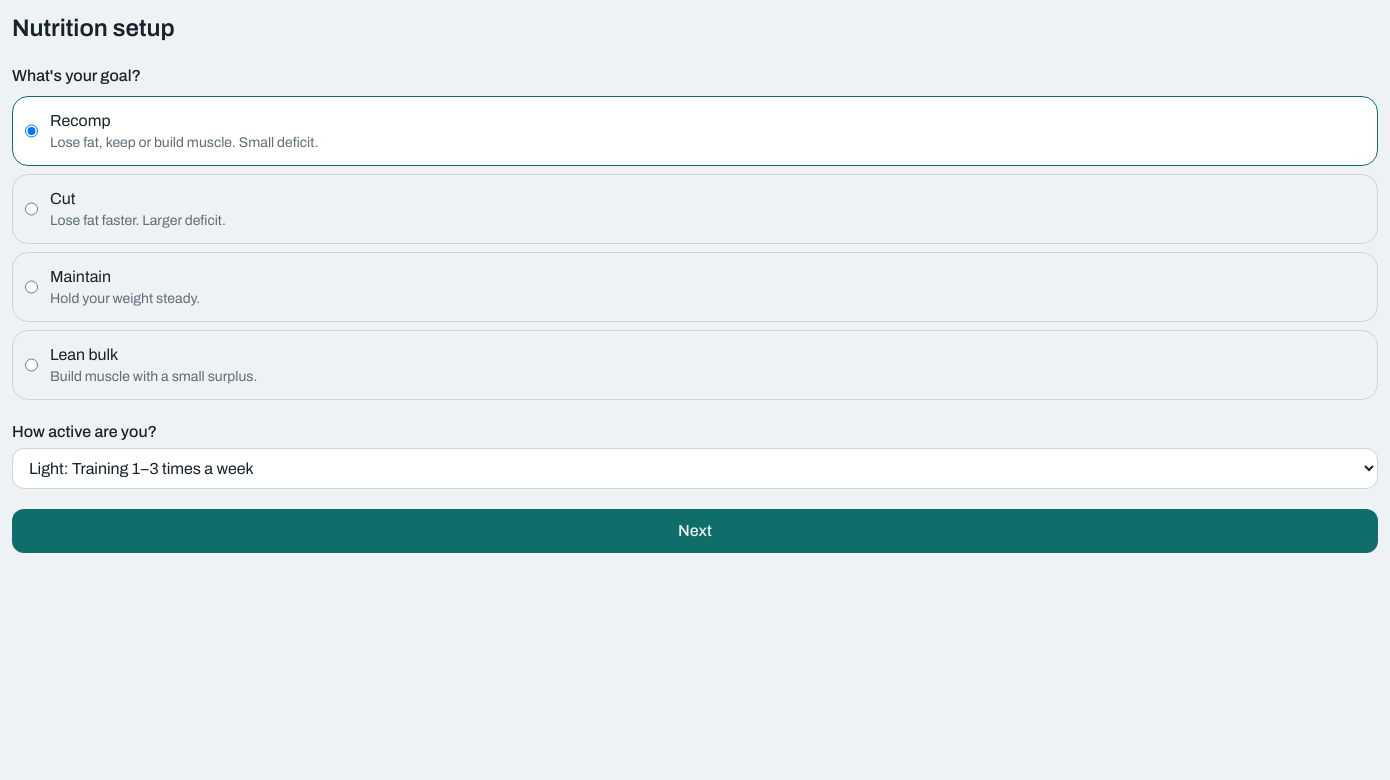
Scenario: NutritionSetup › asks for a weigh-in when the estimate needs one
Click the button "Next" at (695, 531), box [12,509,1378,553]
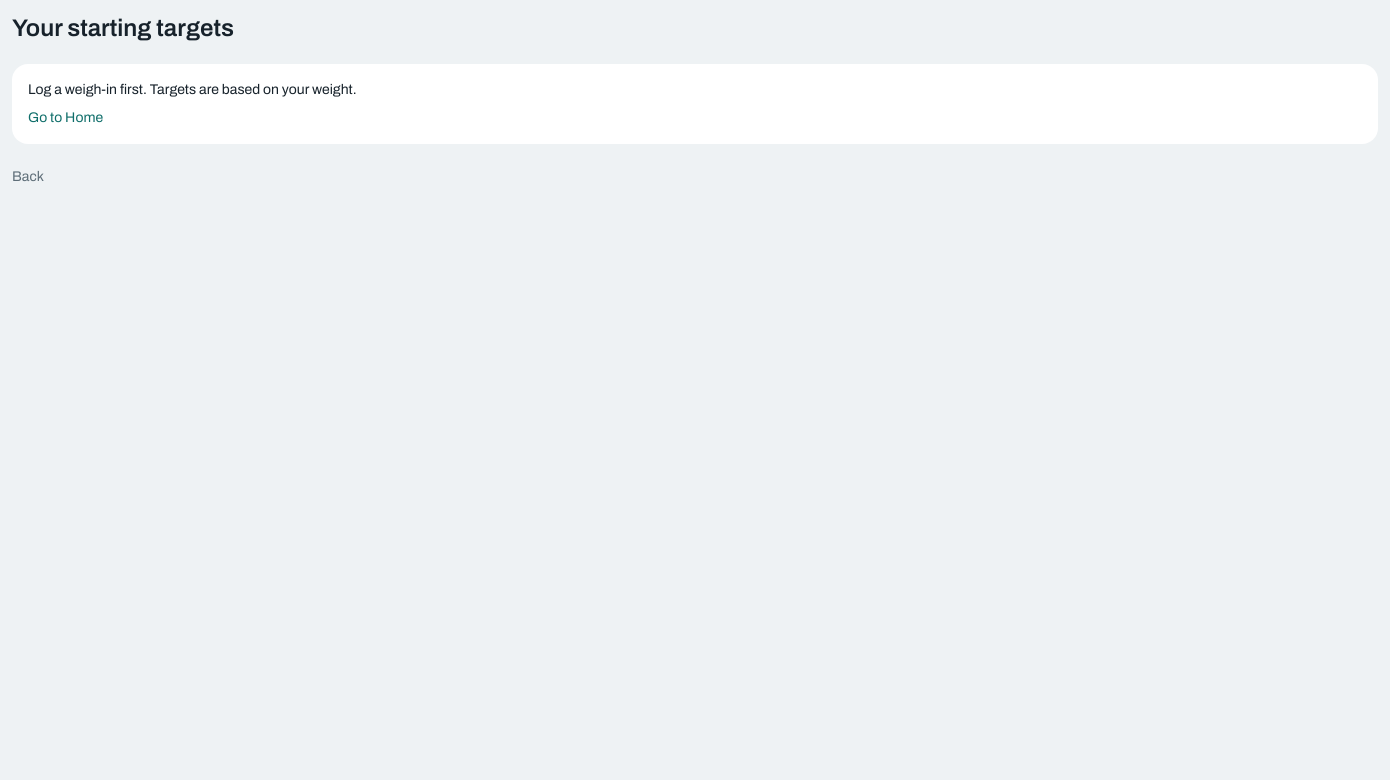
Now the message shows "Log a weigh-in first", box [28,82,143,97]
